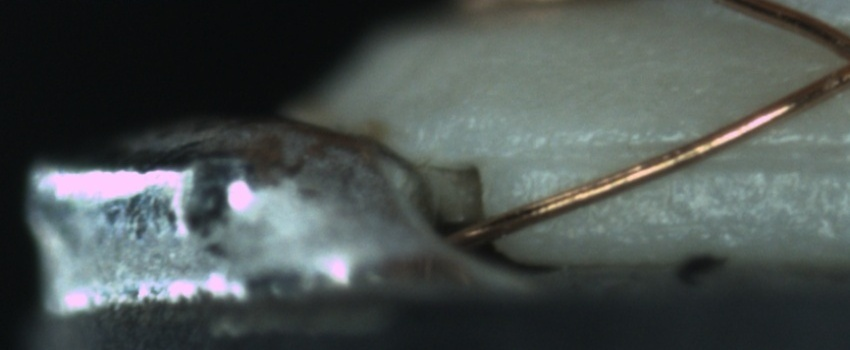CL: (809, 21, 850, 98)
DL: (513, 122, 844, 186)
